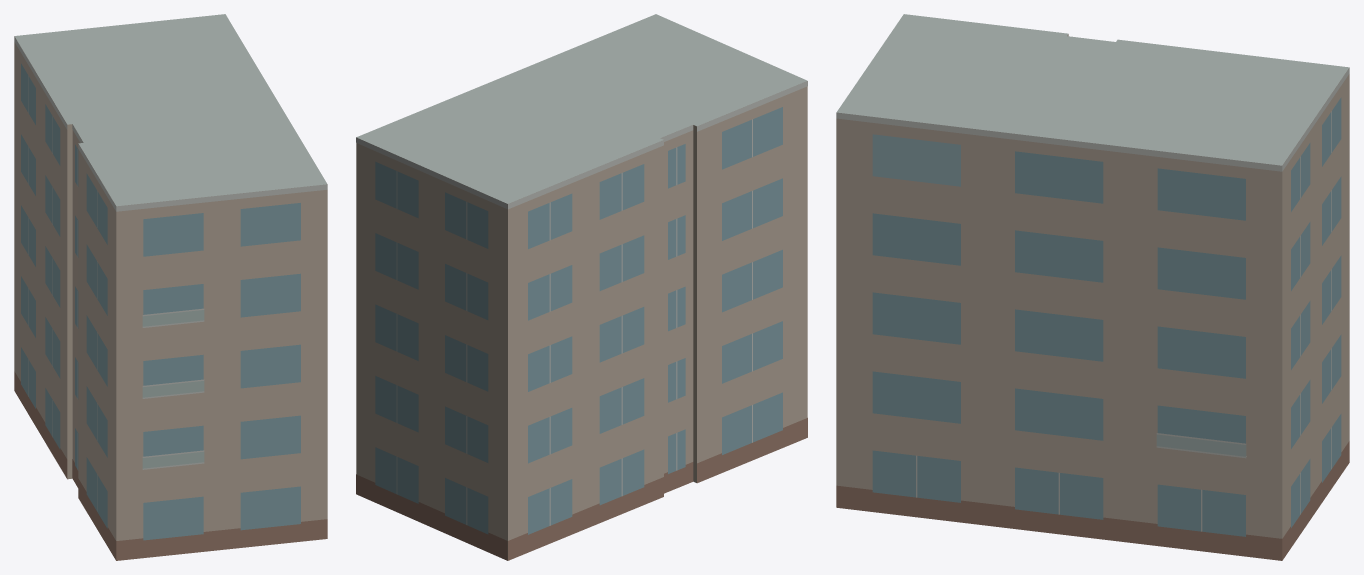
File: survey-upis-32997202.glb
The picture shows the model from 3 angles, left to right: view 1: azimuth 30°, elevation 25°; view 2: azimuth 150°, elevation 25°; view 3: azimuth 270°, elevation 25°; orthographic projection. The views are drawn at different scales.
Visible parts, largest first — view 1: survey-upis-32997202.tmp; view 2: survey-upis-32997202.tmp; view 3: survey-upis-32997202.tmp.
Boxes of the visible parts, bbox=[...] form: survey-upis-32997202.tmp: bbox=[14, 14, 327, 560]; survey-upis-32997202.tmp: bbox=[356, 14, 807, 560]; survey-upis-32997202.tmp: bbox=[836, 14, 1349, 560].
Bounding box in the file's own units: 13.18 × 16 × 18.84.
